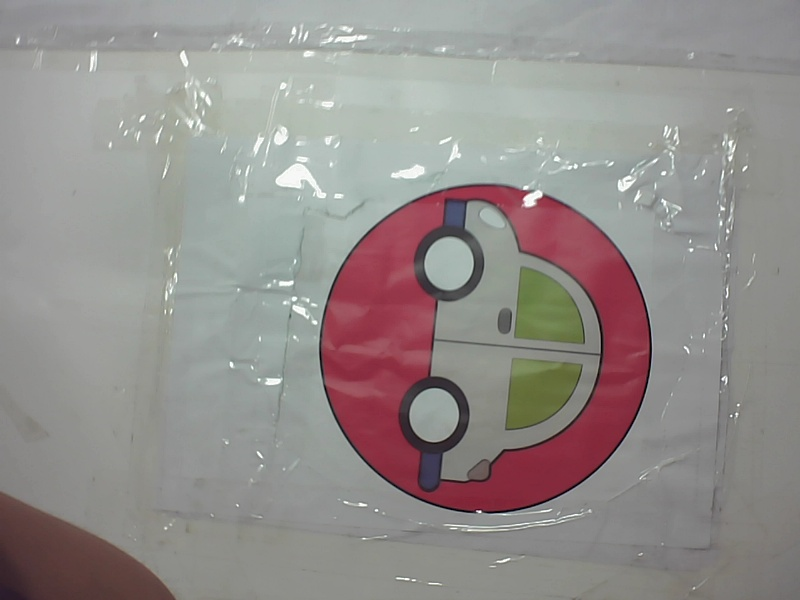areaC: (308, 174, 662, 525)
